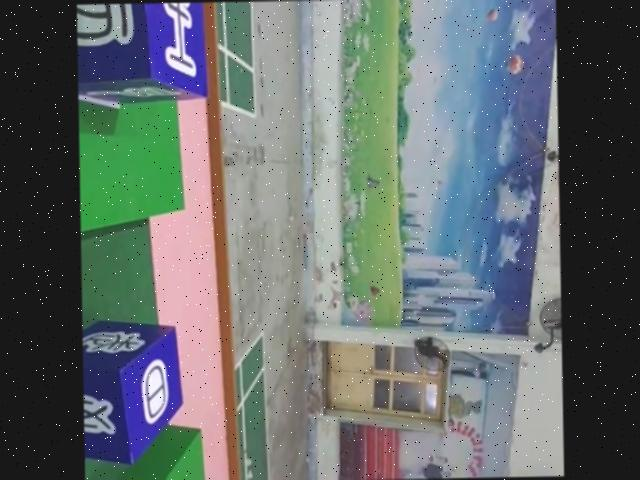R2 Fake Blue: (82, 321, 184, 467), (76, 2, 207, 107)
